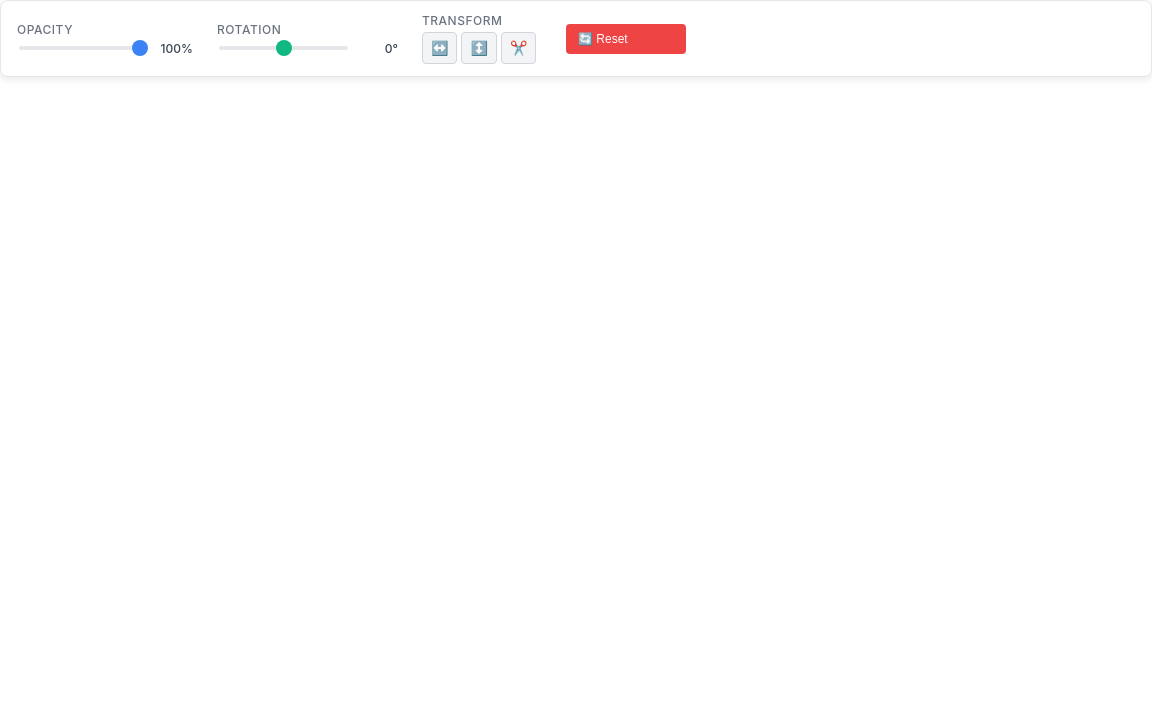
Scenario: ImageEditingToolbar › crop dialog can be closed
# Open crop dialog
Step 1. Click the button titled "Crop Image" → (519, 48), box [501,32,536,64]
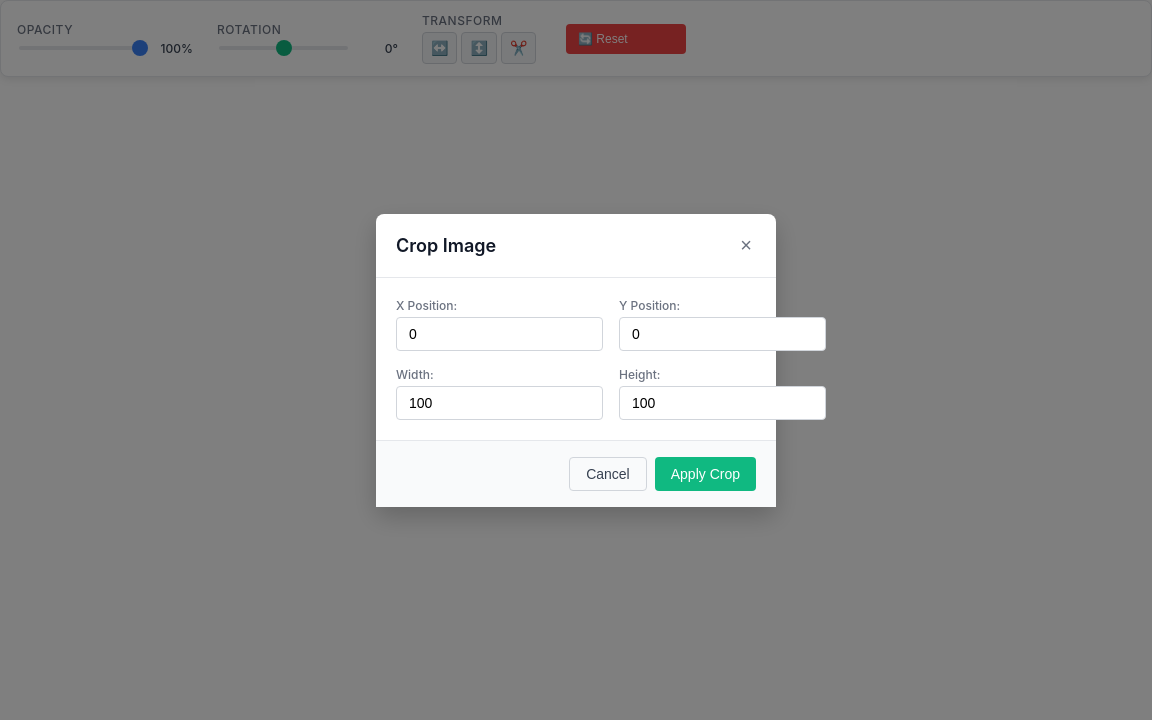
# Close crop dialog
Step 2. Click the button "×" → (746, 245), box [736,230,756,260]
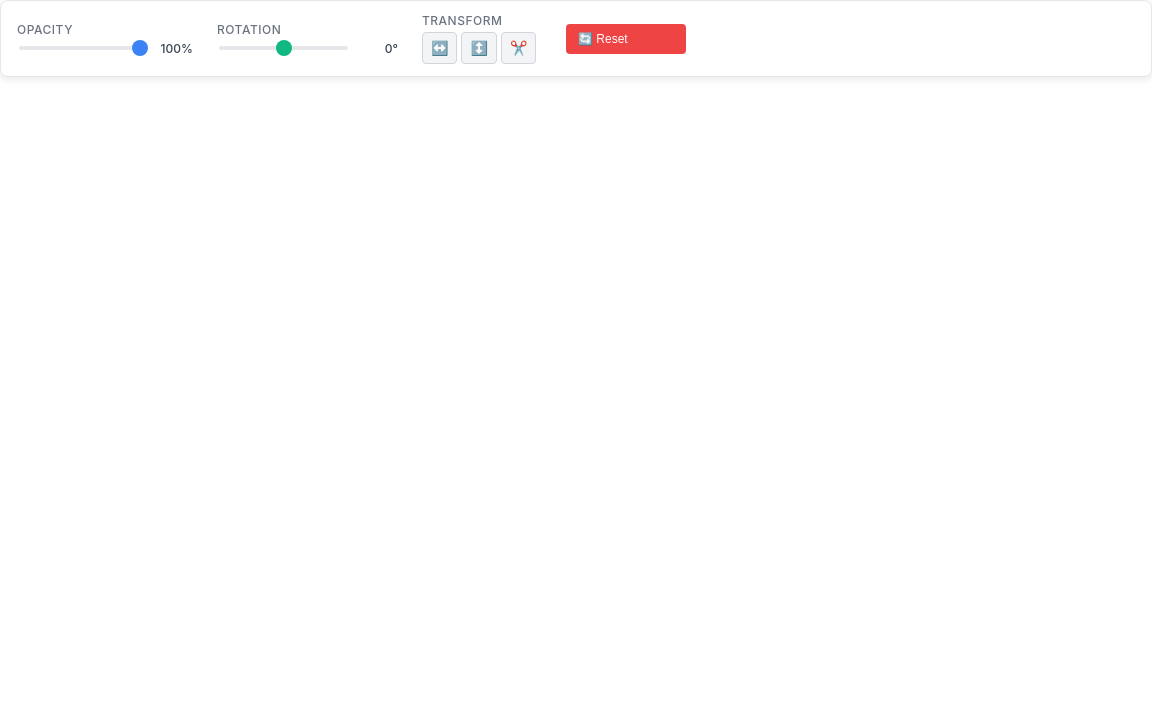
Check: the heading "Crop Image" is gone
